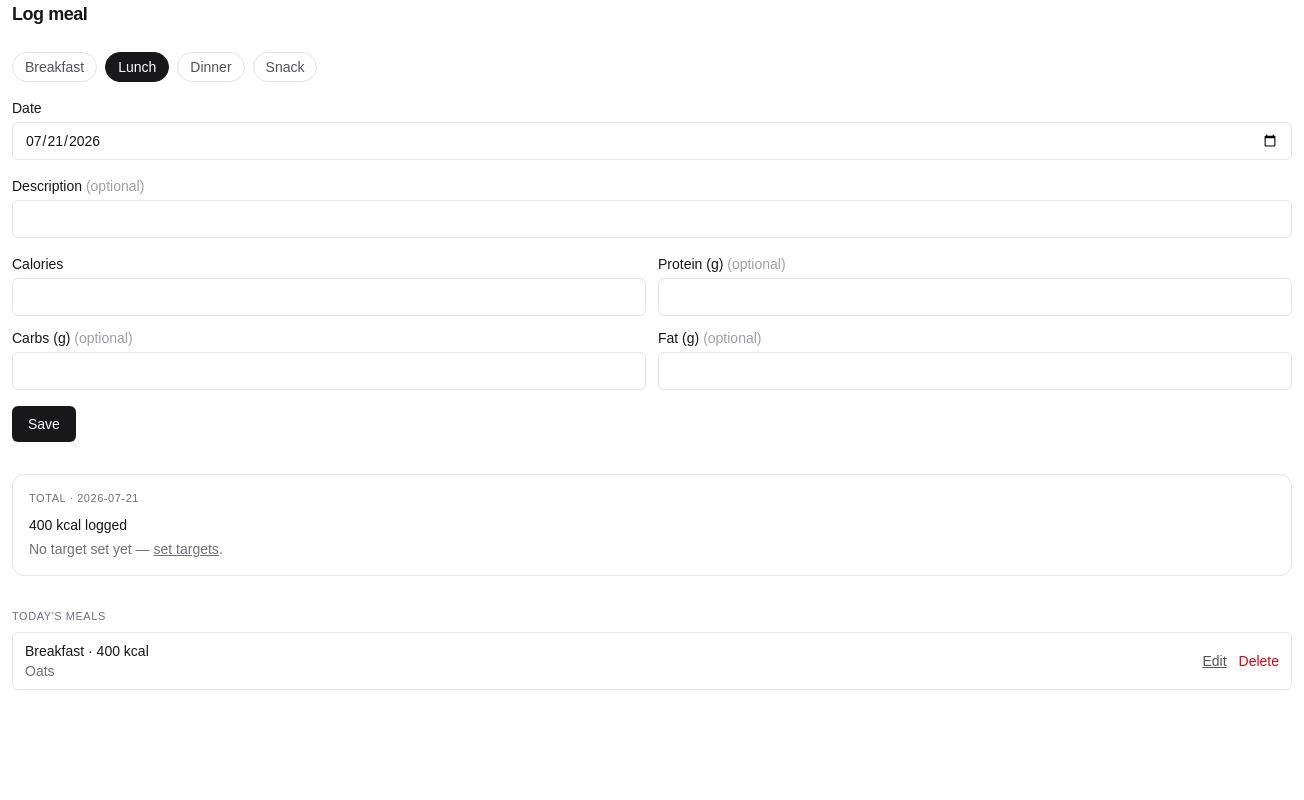
Test: LogMealPanel › AC-M32: opening Edit on an entry shows its actual stored meal type, not the create-mode default
The width and height of the screenshot is (1304, 800).
Expected: the radio button labelled "Lunch" is checked, x1=105 y1=52 x2=169 y2=82
Click the button "Edit" at (1214, 661), box x1=1202 y1=651 x2=1226 y2=671
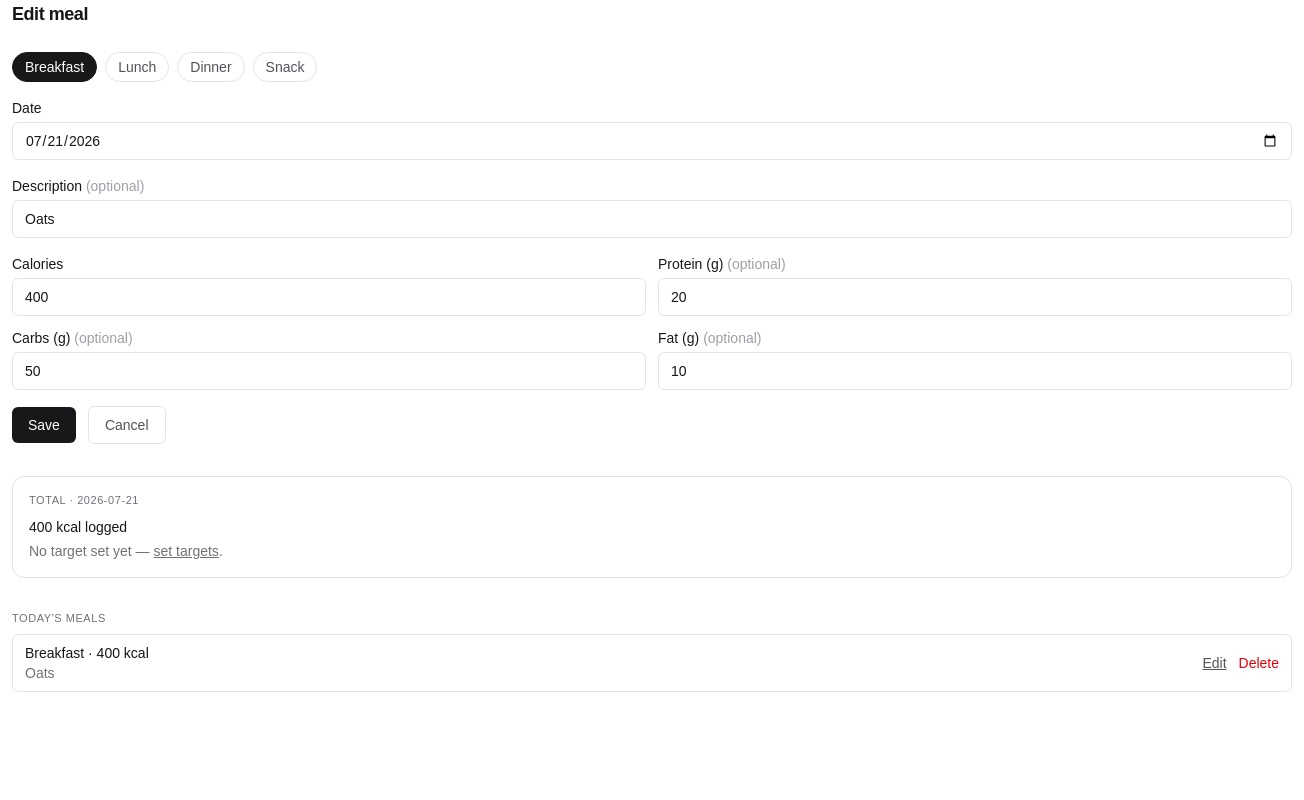
Now the heading "Edit meal" is shown, box x1=12 y1=4 x2=88 y2=24
Now the radio button labelled "Breakfast" is checked, box x1=12 y1=52 x2=97 y2=82
